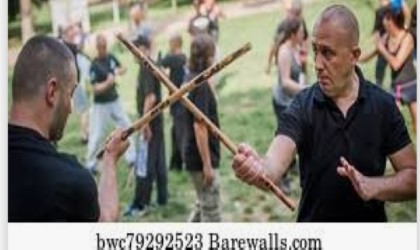baston_e: (177, 103, 284, 210), (188, 36, 243, 100), (120, 30, 168, 93), (123, 87, 164, 151)
baston_v: (107, 24, 128, 42), (239, 33, 257, 53), (89, 148, 109, 165), (284, 194, 297, 216)
